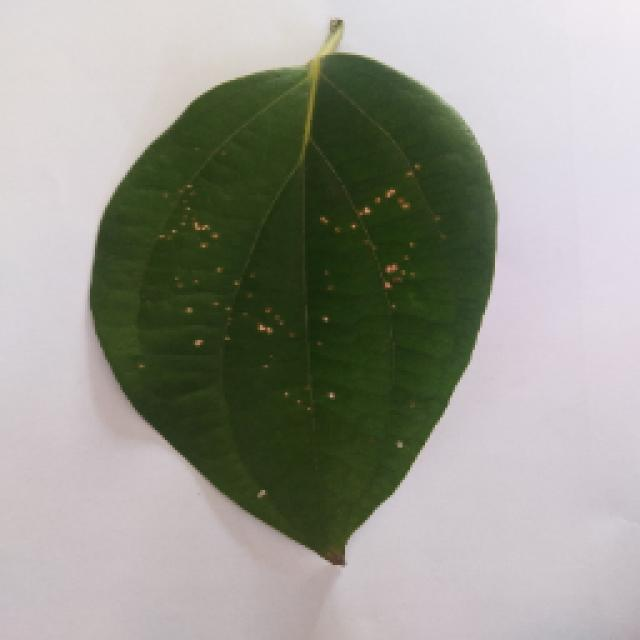pollu-disease: (87, 30, 495, 562)
